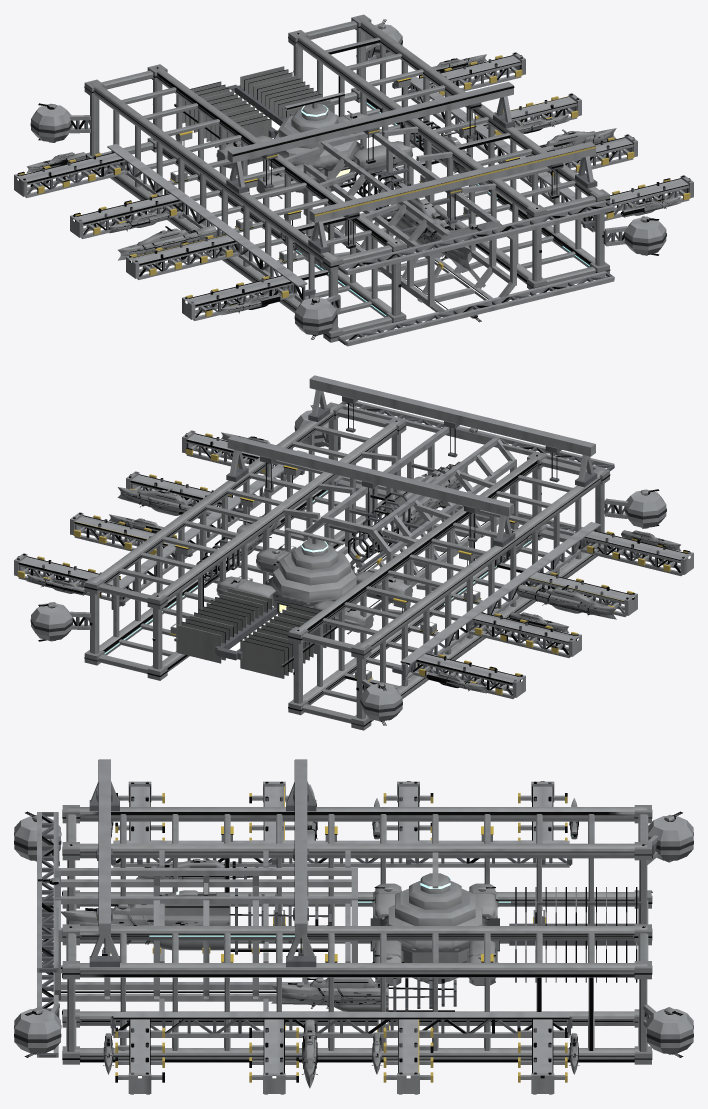
Rendered from Human_Shipyard_T3.fbx.
3 renders of one model, top to bottom at view 1: azimuth 30°, elevation 25°; view 2: azimuth 150°, elevation 25°; view 3: azimuth 270°, elevation 25°, orthographic. The views are drawn at different scales.
Parts seen in each view (by area): view 1: Hull_LOD0, Superstructure_LOD0; view 2: Superstructure_LOD0, Hull_LOD0; view 3: Superstructure_LOD0, Hull_LOD0.
Boxes of the visible parts, left/top/right/bottom form: Hull_LOD0: left=14, top=24, right=693, bottom=346; Superstructure_LOD0: left=84, top=14, right=610, bottom=342; Superstructure_LOD0: left=84, top=375, right=610, bottom=730; Hull_LOD0: left=14, top=401, right=693, bottom=721; Superstructure_LOD0: left=62, top=759, right=652, bottom=1064; Hull_LOD0: left=14, top=781, right=693, bottom=1094.
Size of what is drawn, in the model's own units: 20770 by 4898 by 20264.
